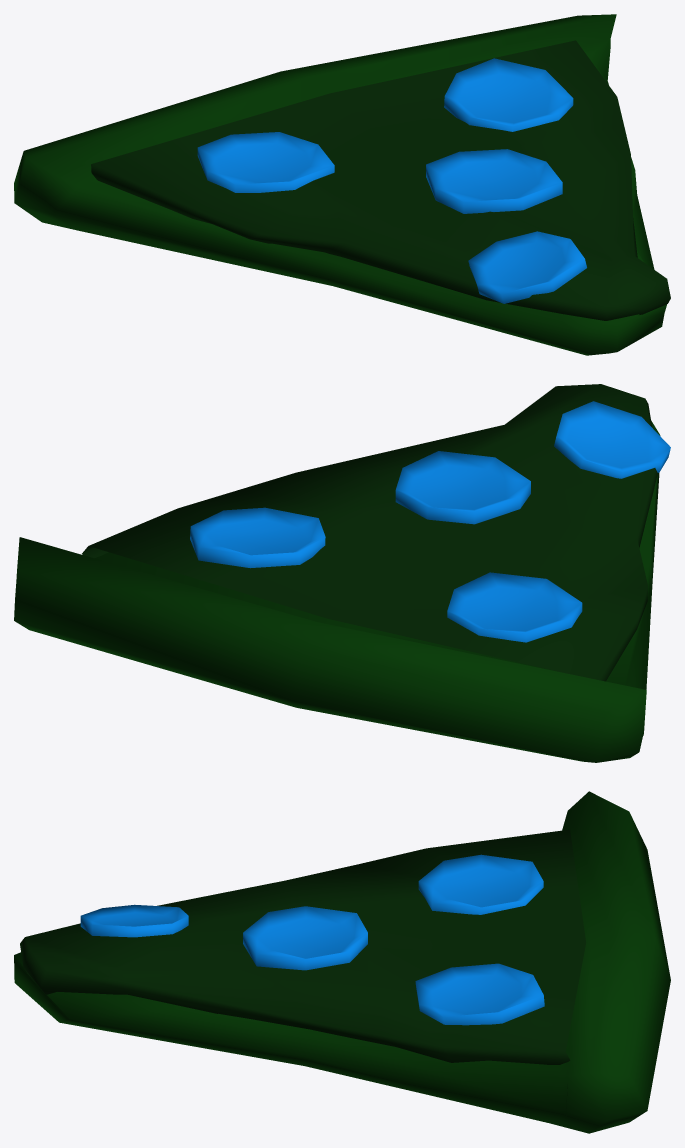
Rendered from Mesh_Pizza.fbx.
3 views of the same model, one above another, from view 1: azimuth 30°, elevation 25°; view 2: azimuth 150°, elevation 25°; view 3: azimuth 270°, elevation 25° (orthographic). The views are drawn at different scales.
Visible parts, largest first — view 1: pizza; view 2: pizza; view 3: pizza.
Boxes of the visible parts, x1,y1,x2,y2 form: pizza: [14, 14, 670, 355]; pizza: [14, 384, 670, 762]; pizza: [14, 791, 670, 1133].
Bounding box in the file's own units: 26.47 × 3.48 × 26.
